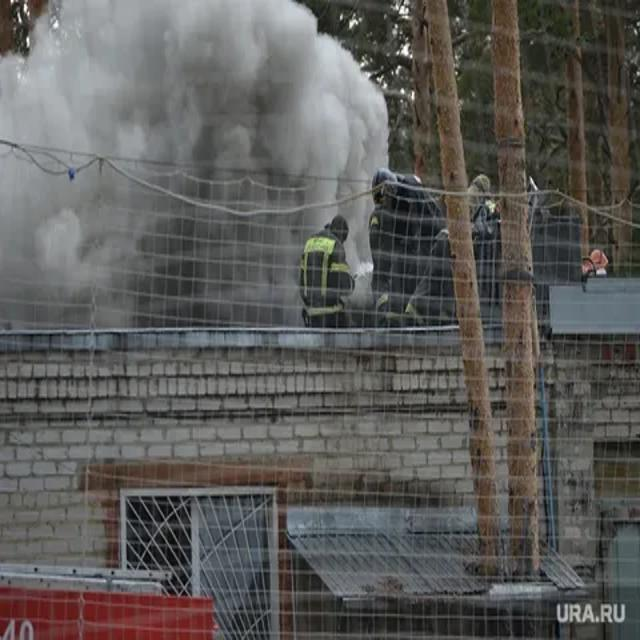Smoke: (0, 0, 390, 330)
